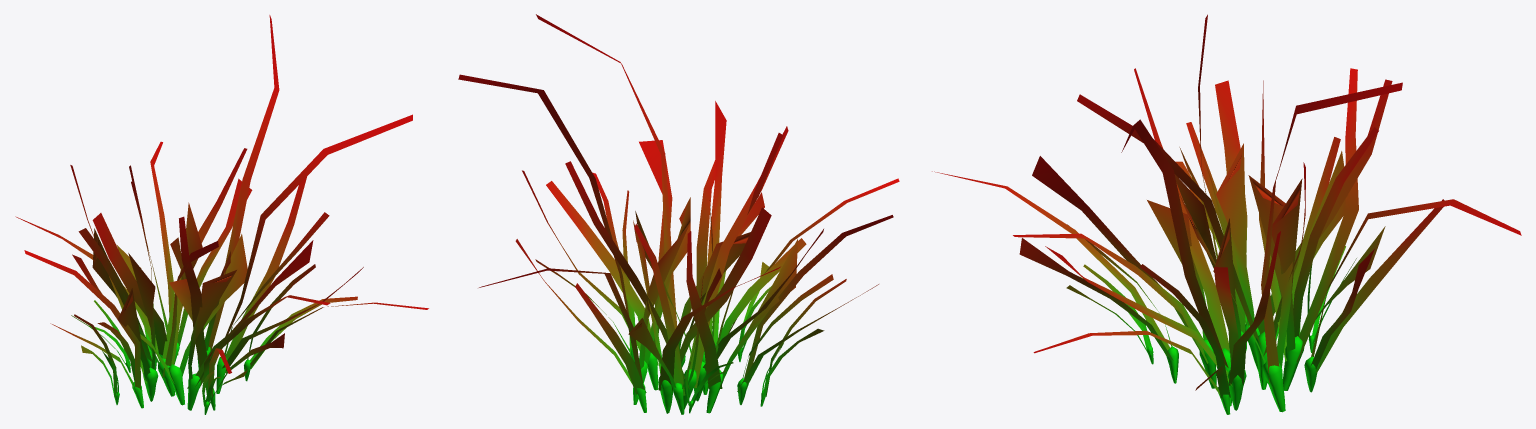
The model's file is QXL_Ribbon_Grass_tbdpec3r_3_LOD2.fbx.
3 renders of one model, left to right at view 1: azimuth 30°, elevation 25°; view 2: azimuth 150°, elevation 25°; view 3: azimuth 270°, elevation 25°, orthographic. The views are drawn at different scales.
Parts seen in each view (by area): view 1: Var4_LOD2; view 2: Var4_LOD2; view 3: Var4_LOD2.
Part boxes in pixels (<box>): Var4_LOD2: <box>15,15,428,414</box>; Var4_LOD2: <box>458,14,899,414</box>; Var4_LOD2: <box>932,14,1521,414</box>.
Size of the model in its own units: 43.61 by 35.89 by 47.85.
